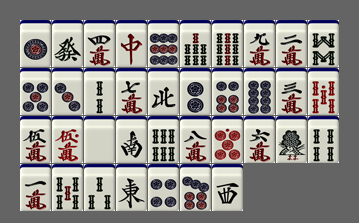0m: (52, 116, 83, 163)
0p: (212, 116, 243, 163)
0s: (308, 68, 339, 115)
1m: (20, 164, 51, 211)
1p: (20, 20, 51, 67)
1s: (276, 116, 307, 163)
1z: (116, 164, 147, 211)
2m: (276, 20, 307, 67)
2p: (180, 68, 211, 115)
2s: (84, 68, 115, 115)
2z: (116, 116, 147, 163)
3m: (276, 68, 307, 115)
3p: (52, 68, 83, 115)
3s: (84, 164, 115, 211)
3z: (212, 164, 243, 211)
4m: (84, 20, 115, 67)
4p: (148, 164, 179, 211)
4s: (308, 116, 339, 163)
4z: (148, 68, 179, 115)
5m: (20, 116, 51, 163)
5p: (20, 68, 51, 115)
5s: (52, 164, 83, 211)
5z: (84, 116, 115, 163)
6m: (244, 116, 275, 163)
6p: (212, 68, 243, 115)
6s: (148, 116, 179, 163)
6z: (52, 20, 83, 67)
7m: (116, 68, 147, 115)
7p: (180, 164, 211, 211)
7s: (180, 20, 211, 67)
7z: (116, 20, 147, 67)
8m: (180, 116, 211, 163)
8p: (244, 68, 275, 115)
8s: (308, 20, 339, 67)
9m: (244, 20, 275, 67)
9p: (148, 20, 179, 67)
9s: (212, 20, 243, 67)
